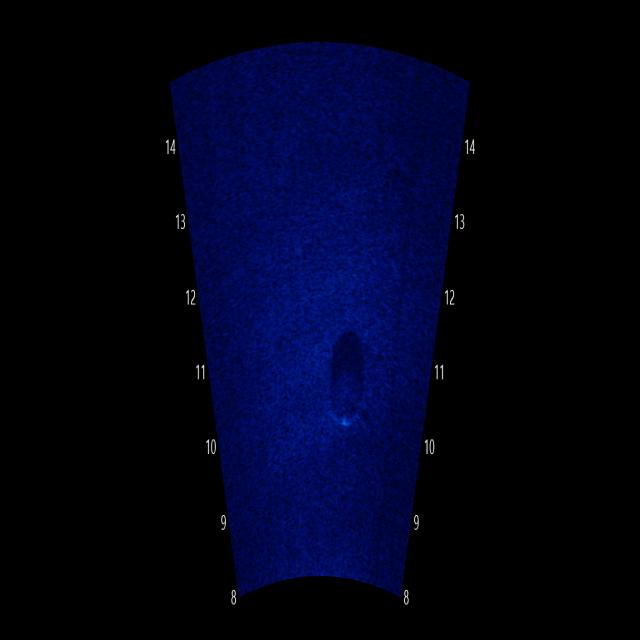circle: (315, 338, 377, 447)
